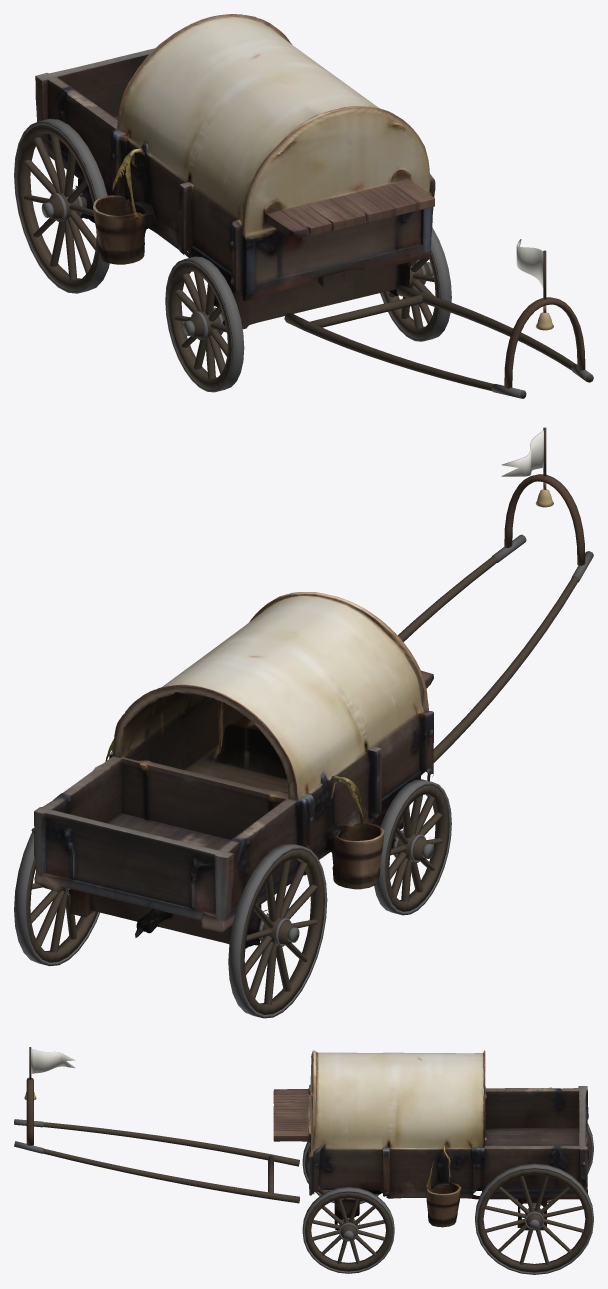
Rendered from prop-wagon-convoy.glb.
3 views of the same model, one above another, from view 1: azimuth 30°, elevation 25°; view 2: azimuth 150°, elevation 25°; view 3: azimuth 270°, elevation 25° (orthographic). The views are drawn at different scales.
Visible parts, largest first — view 1: wagon-body, wagon-wheels-front, wagon-wheels-rear, wagon-harness; view 2: wagon-body, wagon-wheels-rear, wagon-wheels-front, wagon-harness; view 3: wagon-body, wagon-wheels-rear, wagon-harness, wagon-wheels-front.
Boxes of the visible parts, bbox=[...] form: wagon-body: bbox=[35, 14, 435, 329]; wagon-wheels-front: bbox=[165, 227, 451, 392]; wagon-wheels-rear: bbox=[14, 118, 109, 293]; wagon-harness: bbox=[284, 239, 593, 398]; wagon-body: bbox=[31, 592, 433, 948]; wagon-wheels-rear: bbox=[14, 832, 327, 1018]; wagon-wheels-front: bbox=[374, 779, 451, 915]; wagon-harness: bbox=[398, 427, 593, 775]; wagon-body: bbox=[273, 1050, 588, 1230]; wagon-wheels-rear: bbox=[475, 1123, 593, 1274]; wagon-harness: bbox=[14, 1047, 299, 1203]; wagon-wheels-front: bbox=[302, 1141, 394, 1273].
Size of the model in its own units: 2.14 by 2.03 by 5.6.
Materials: 2 (2 with a texture image).
